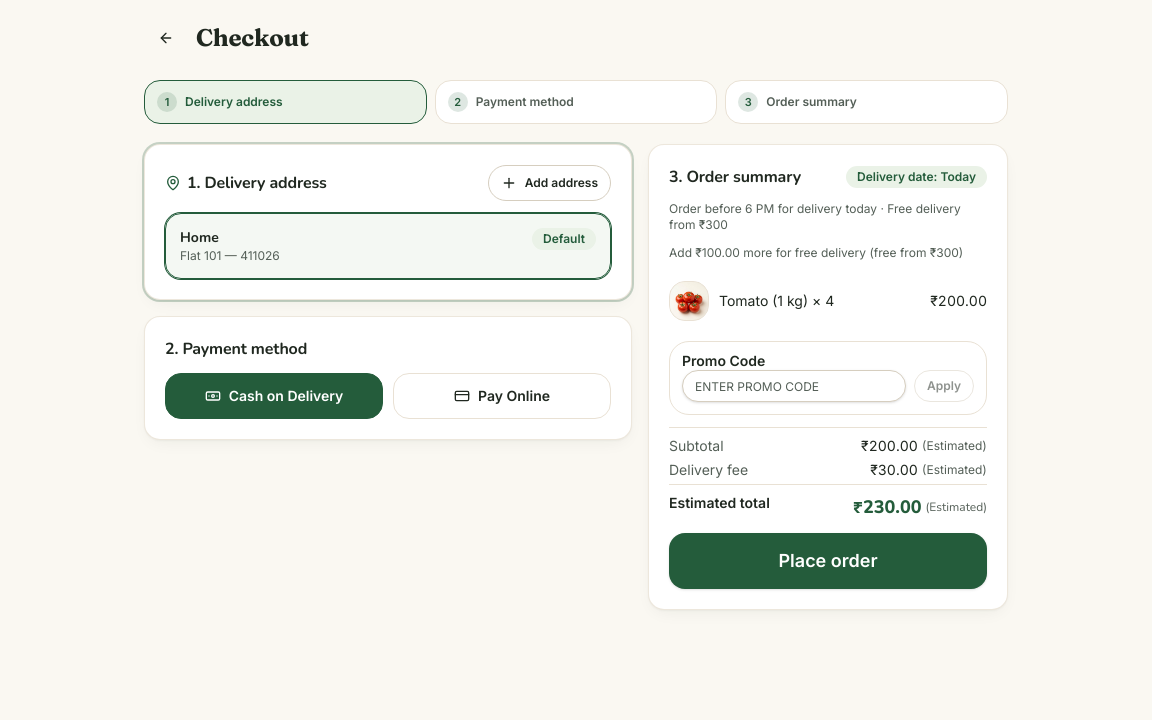
Customer Retention & Promotional Offers › applies valid promo code and shows error for invalid/expired codes in CheckoutPage
Step 1. Type "OLD10" into the field labelled "Promo Code" → (794, 386), box [682,370,906,402]
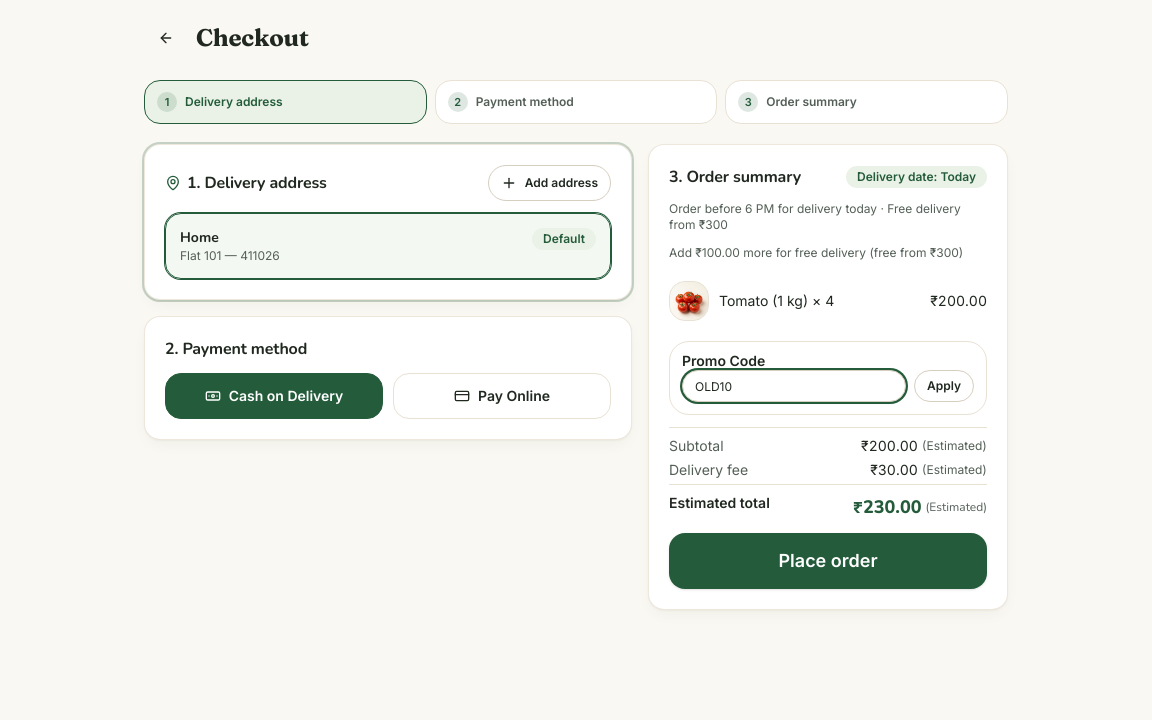
Step 2. Click the button "Apply" → (944, 386), box [914,370,974,402]
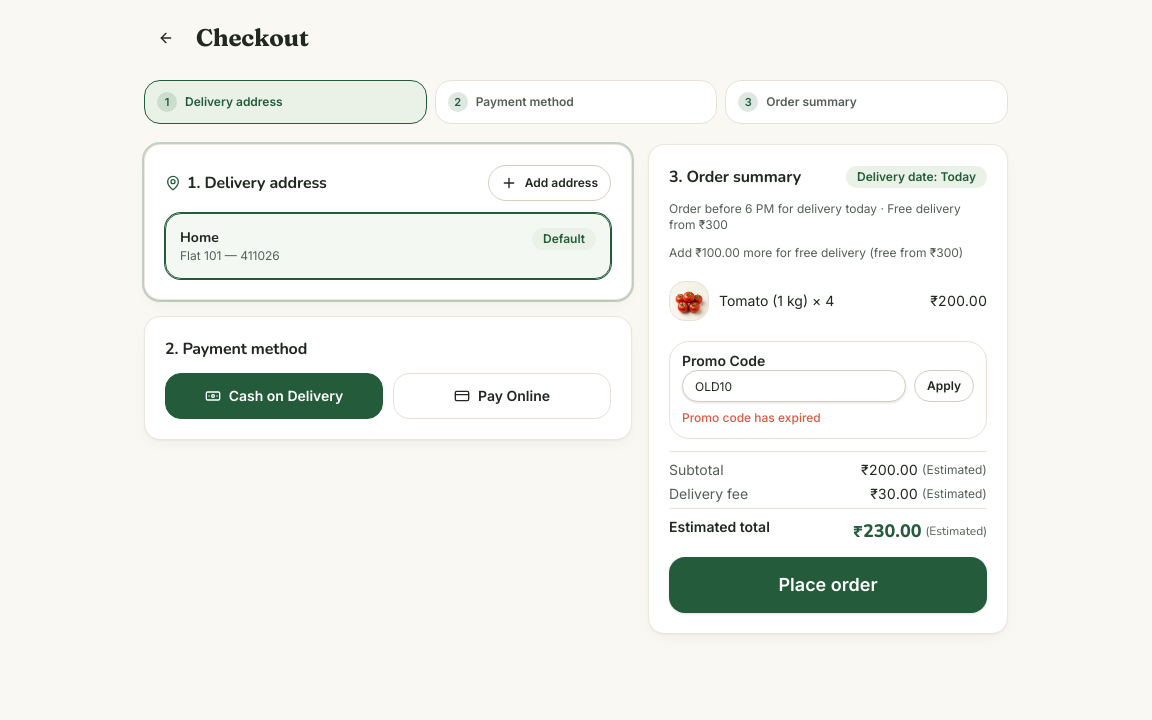
Check: the message shows "expired", box [682,410,821,425]
Step 3. Replace the text in the field labelled "Promo Code" with "FRESH20" → (794, 386), box [682,370,906,402]
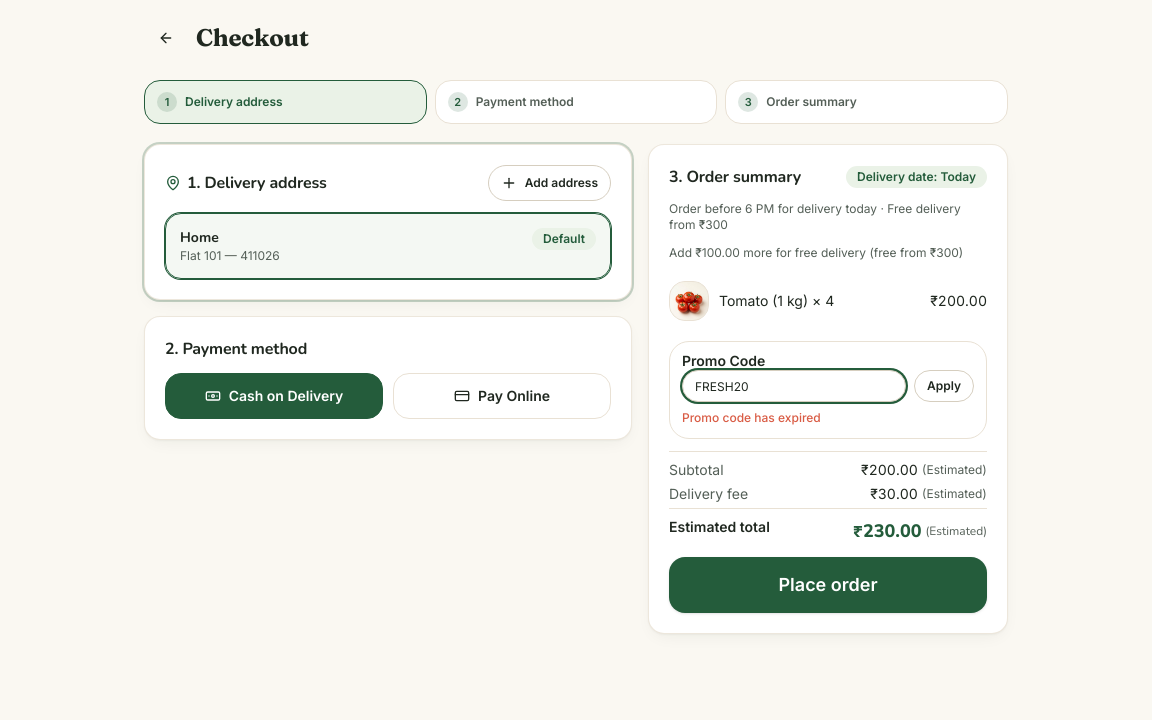
Step 4. Click the button "Apply" → (944, 386), box [914,370,974,402]
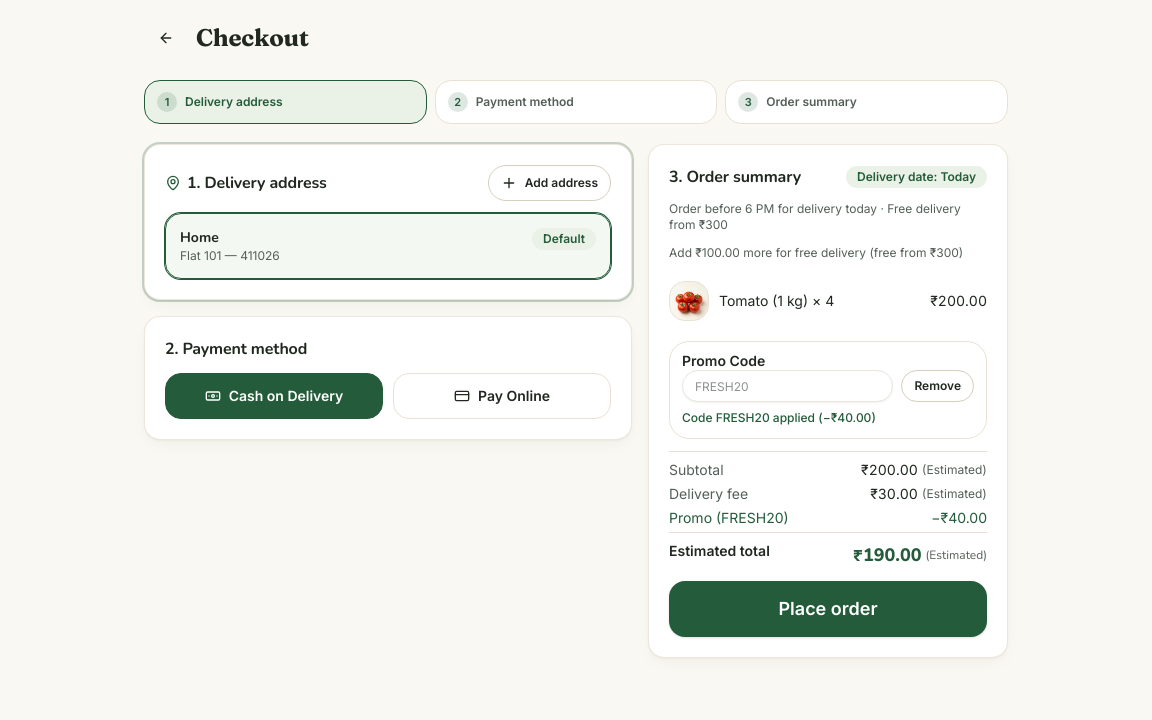
Check: the text "Code FRESH20 applied (−₹40.00)" is shown, box [682,410,876,425]
